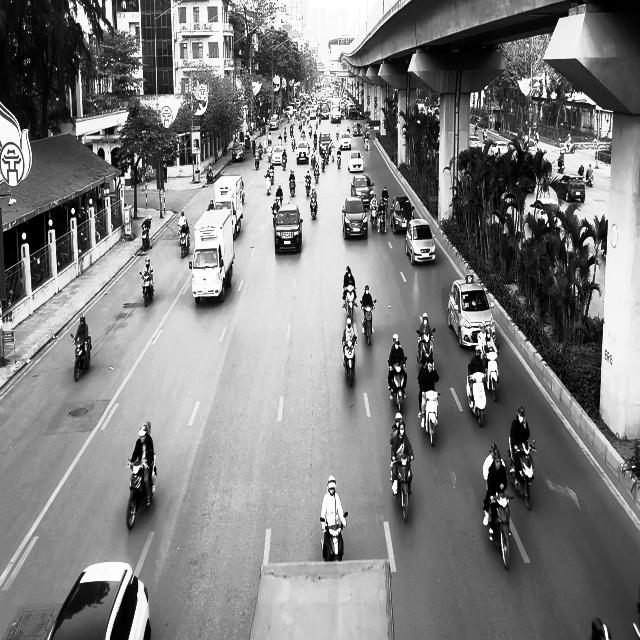car: (48, 562, 151, 640), (447, 275, 496, 349), (274, 203, 303, 254), (405, 218, 436, 265), (342, 196, 368, 240), (390, 195, 414, 233), (351, 174, 375, 208), (559, 174, 585, 203), (486, 141, 509, 163), (347, 150, 364, 172), (295, 140, 310, 164), (319, 131, 332, 155), (270, 145, 285, 165), (232, 142, 245, 162), (339, 131, 352, 149)
motorbike: (125, 454, 156, 530), (508, 438, 536, 510), (488, 493, 513, 570), (390, 452, 413, 522), (320, 512, 348, 562), (466, 364, 486, 426), (420, 390, 440, 446), (388, 356, 407, 412), (70, 333, 92, 381), (483, 345, 500, 402), (416, 327, 436, 368), (342, 335, 357, 387), (360, 300, 376, 345), (139, 272, 155, 306), (343, 286, 357, 323), (178, 228, 190, 258), (141, 223, 152, 251), (270, 204, 280, 229), (378, 207, 387, 234), (370, 203, 378, 229), (304, 175, 312, 196), (310, 196, 317, 219), (264, 172, 271, 195), (206, 164, 213, 183), (289, 178, 296, 196), (336, 151, 342, 169), (254, 152, 260, 169)
